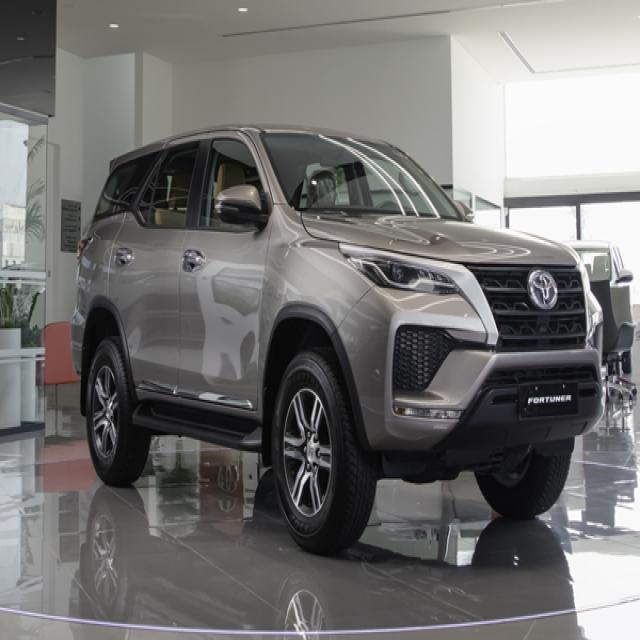light_vehicle: (70, 124, 605, 554)
